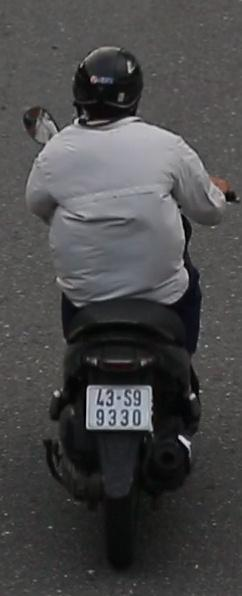LP: (84, 379, 157, 434)
helmet: (70, 40, 146, 132)
